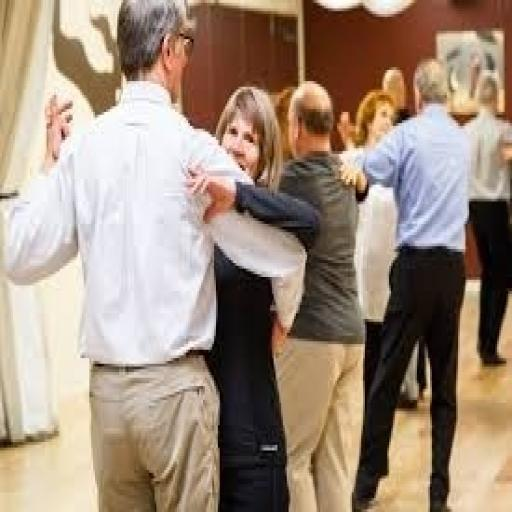dancing: (2, 0, 316, 509)
